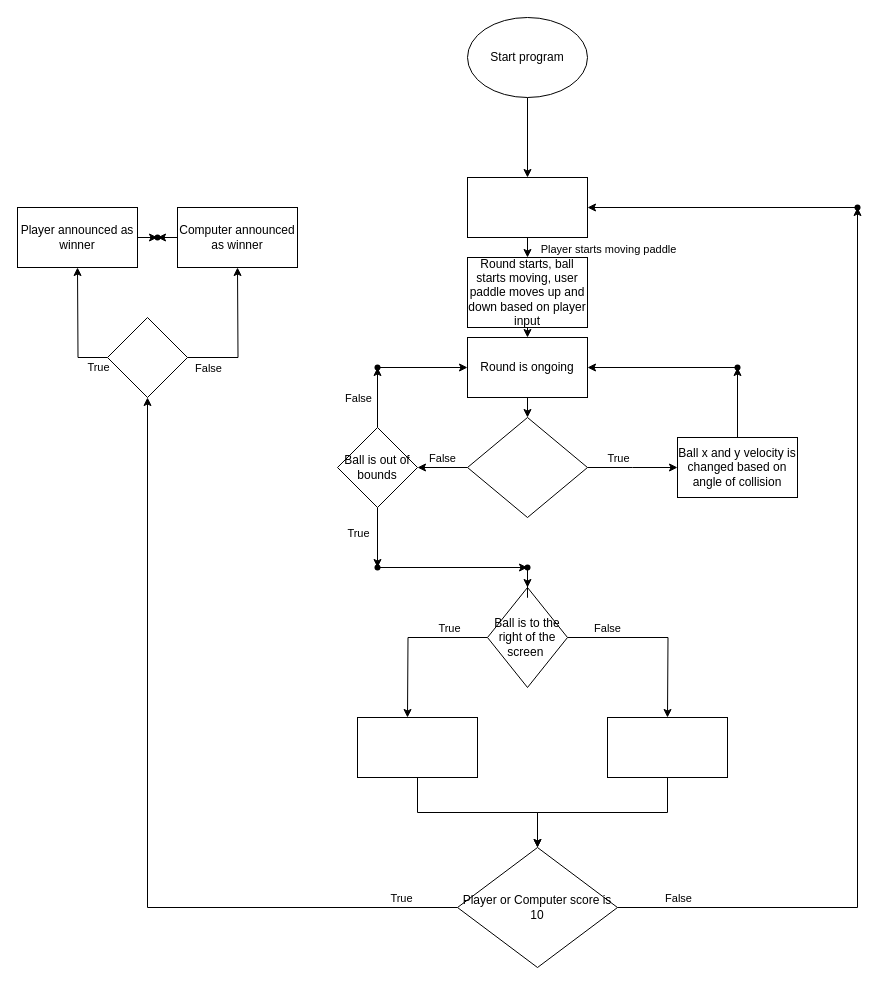
Image size: 885x985. Some labels were removed from this diagram. The centre of each missing label's shape, as x and y in pixels:
"Ball hits paddle or horizontal wall" belongs at pixel 527 467.
"Computer score increases by 1" belongs at pixel 417 747.
"Game scene, ball and paddle positions and speed are reset" belongs at pixel 527 207.
"Player score increases by 1" belongs at pixel 667 747.
"Player score is 10" belongs at pixel 147 357.
